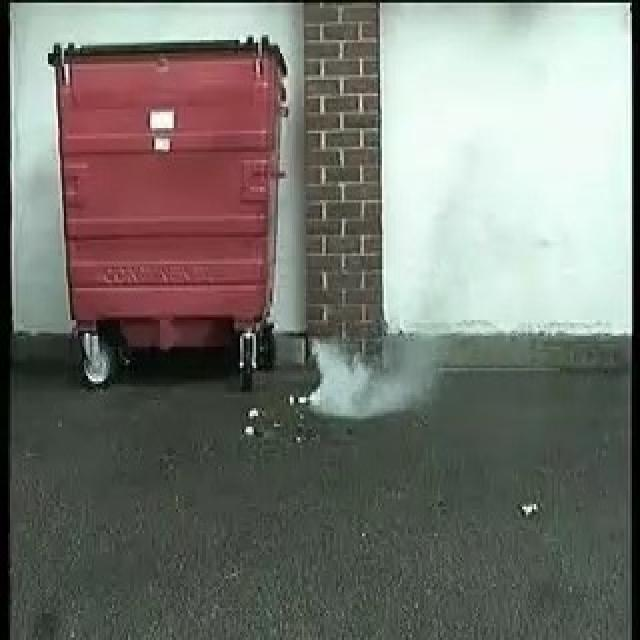Smoke: (312, 336, 436, 418)
